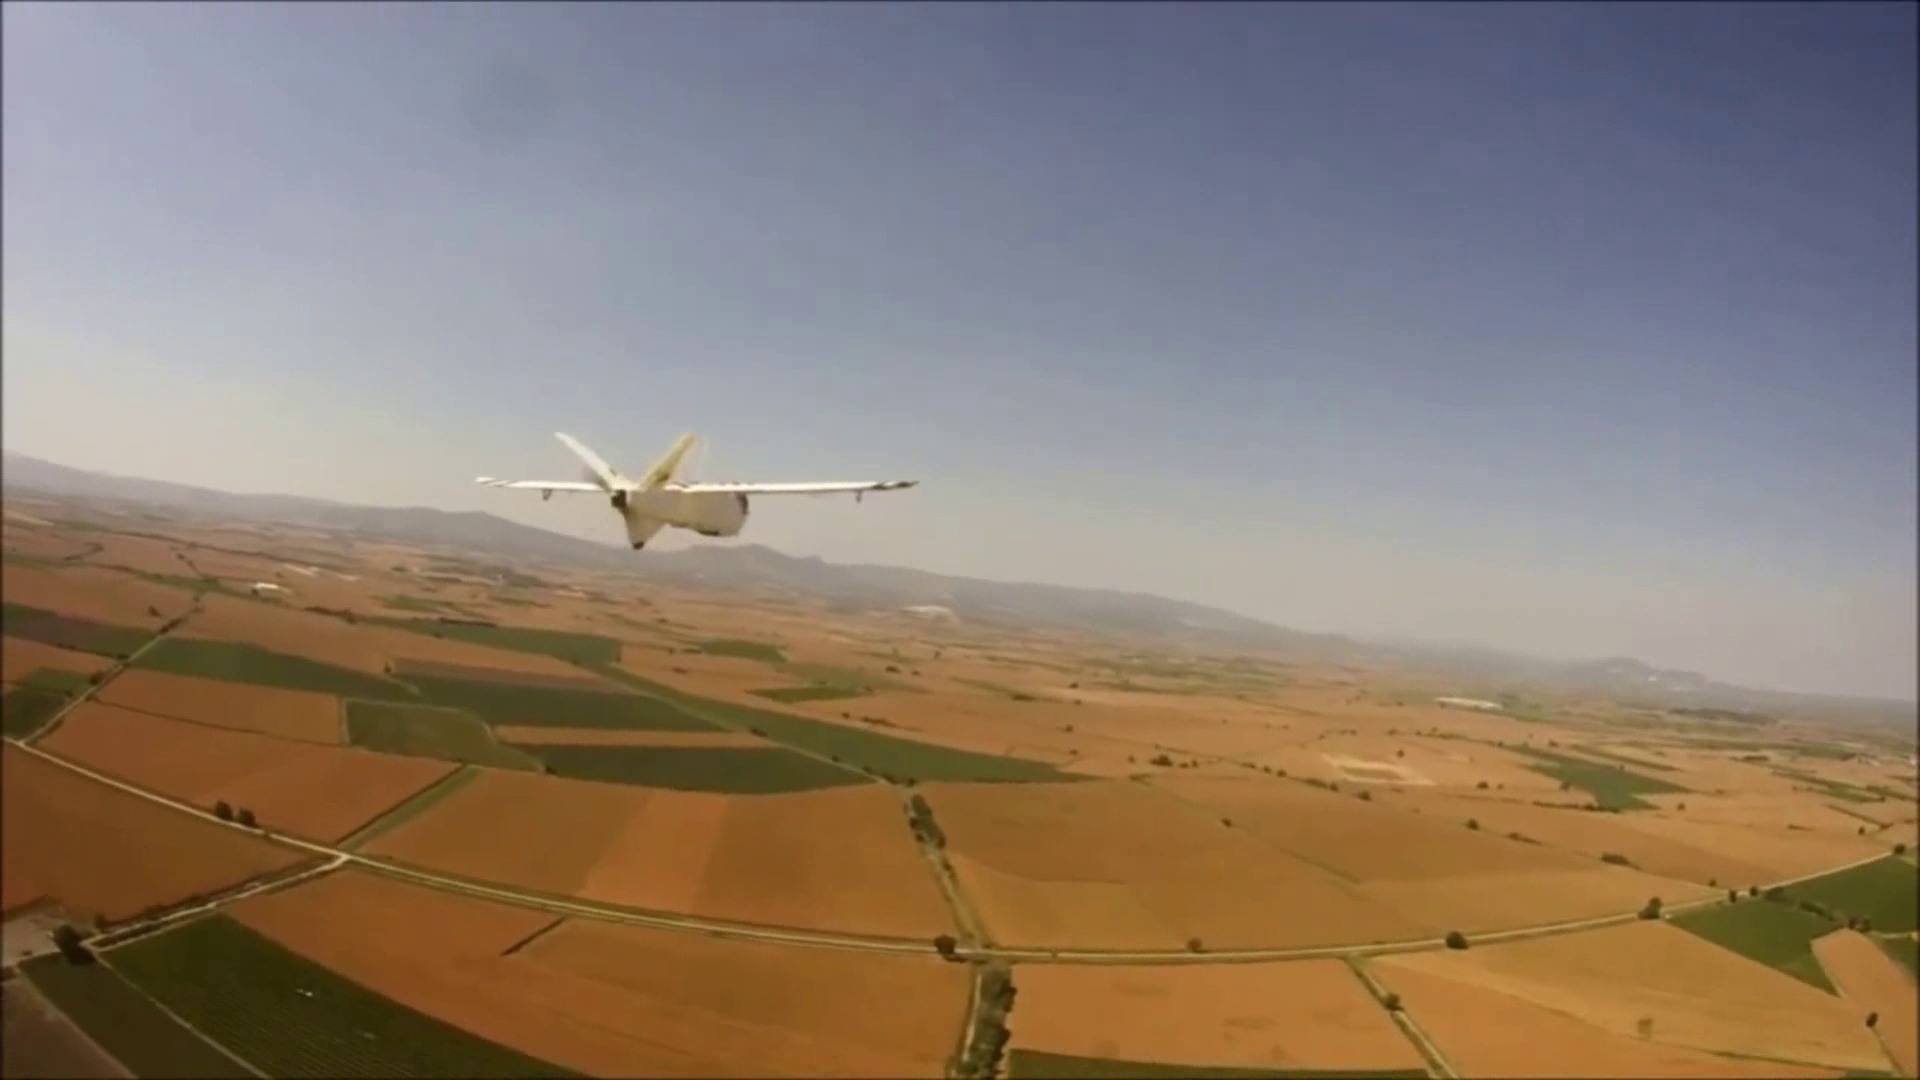airplane: (7, 443, 1899, 1067), (470, 432, 916, 552)
